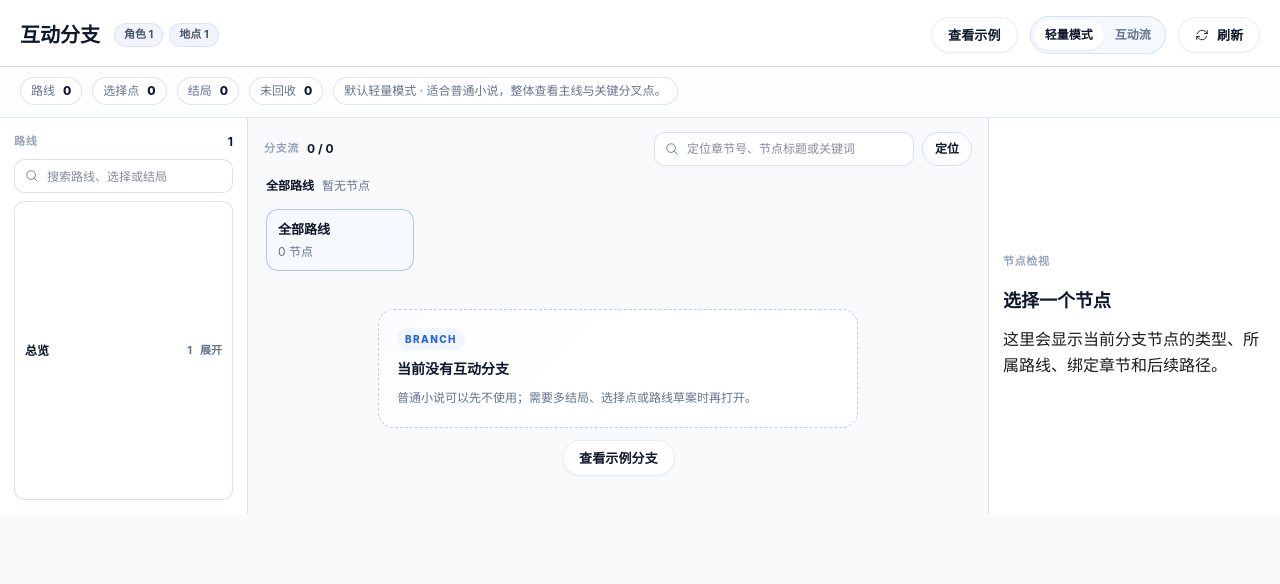
StoryBranchView › 应显示轻量概览条并支持切换到目标分支
Click the button "查看示例".
click(974, 35)  # box [931,17,1018,53]
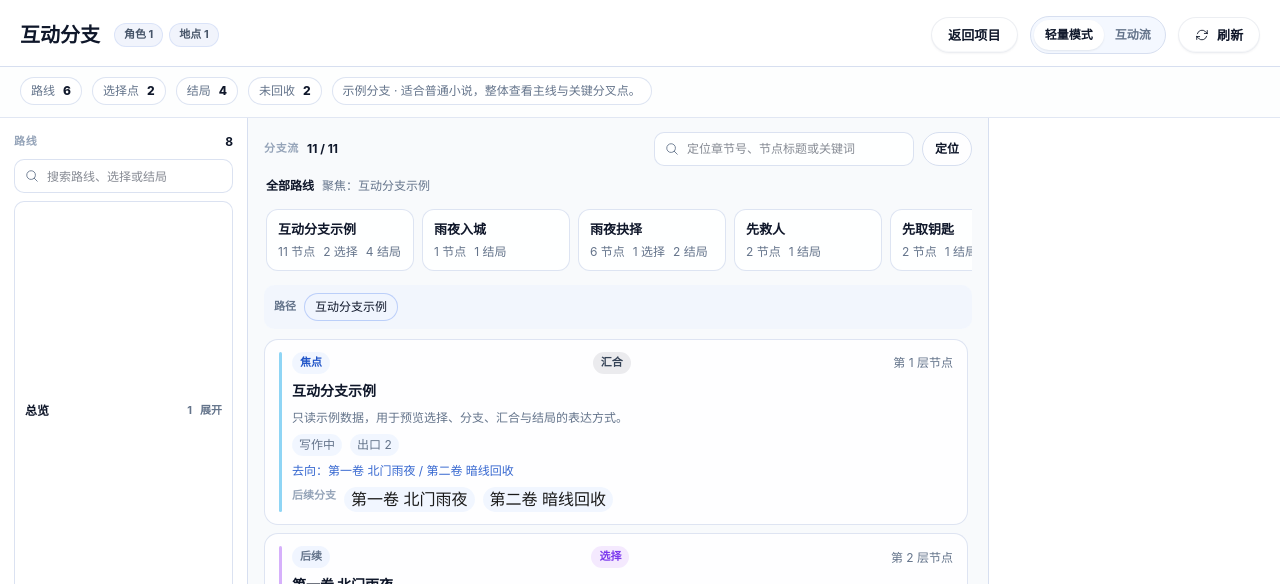
expect the element with test id "branch-overview" shows "先取钥匙": met, box [890,209,988,271]
Click the button with test id "branch-overview-project-1-branch-key".
click(964, 240)  # box [890,209,1038,271]
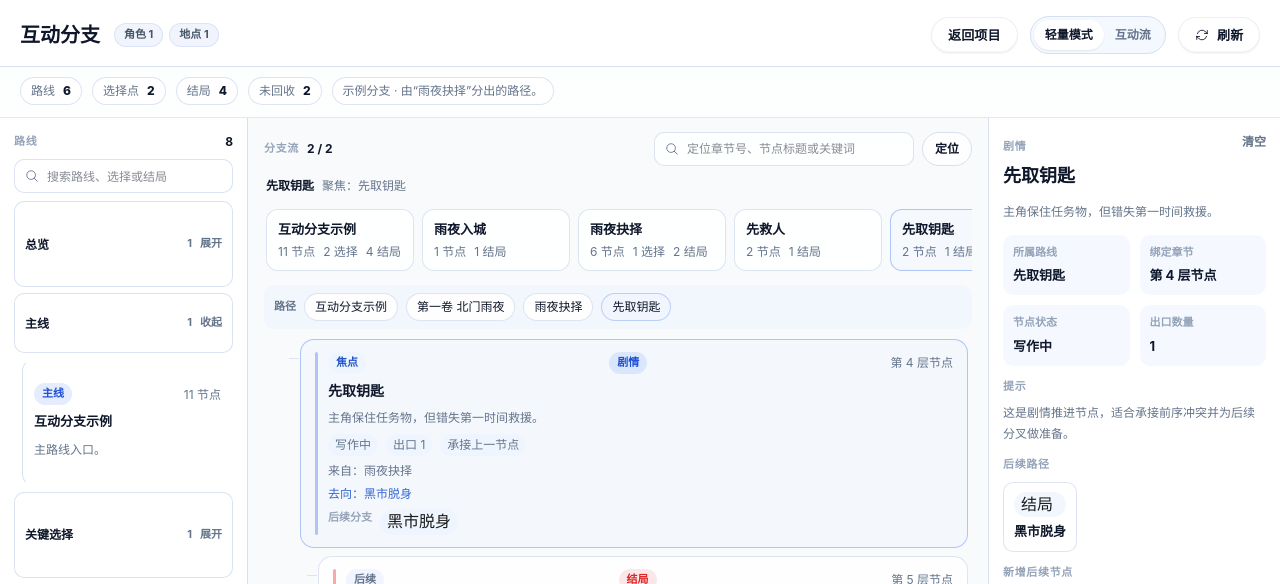
expect the element with class "interactive-branch-view__route-summary" shows "先取钥匙": met, box [266,178,314,193]
expect the element with class "interactive-branch-view__route-summary" shows "聚焦：先取钥匙": met, box [322,178,406,193]
